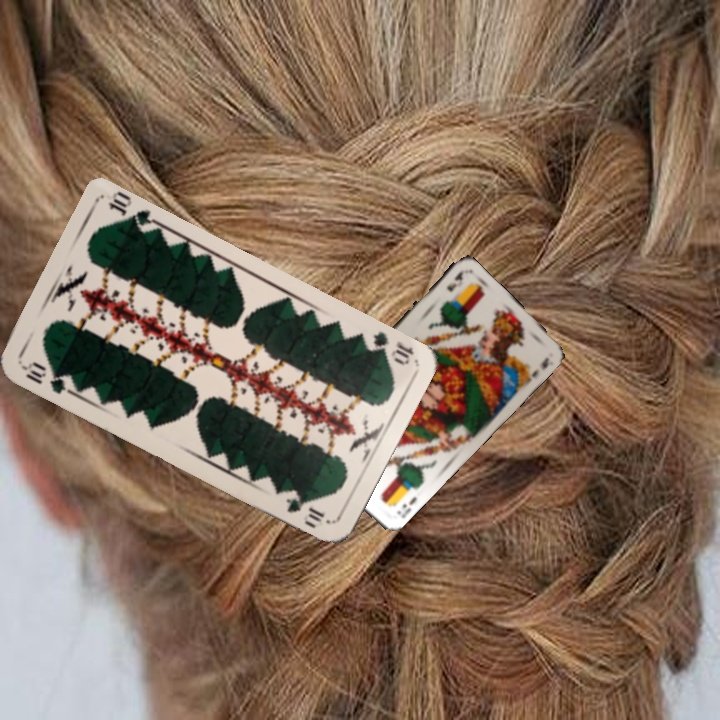EK: (393, 492, 419, 520), (442, 268, 465, 294)
G10: (18, 358, 77, 397), (368, 327, 417, 368)
